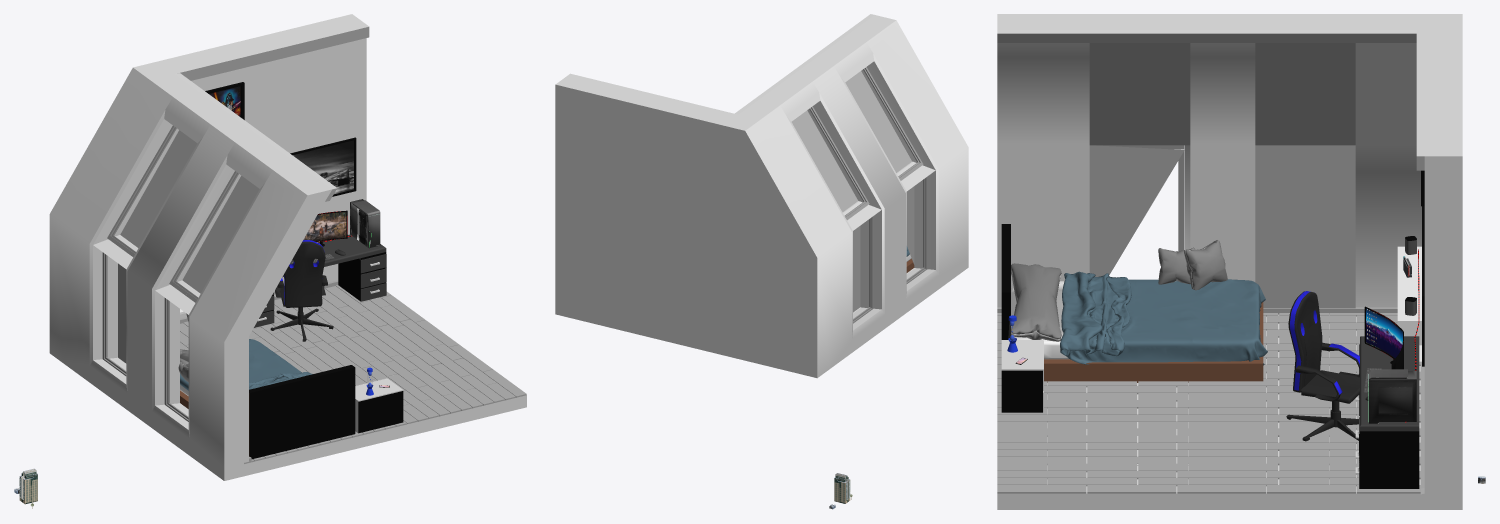
Rendered from interiores.glb.
3 views of the same model, side by side, from view 1: azimuth 30°, elevation 25°; view 2: azimuth 150°, elevation 25°; view 3: azimuth 270°, elevation 25° (orthographic). The views are drawn at different scales.
Visible parts, largest first — view 1: cuarto, cuarto.001, cuarto.002, cama, escritorio, silla, cuadro, Cube.001, Plane, torre, pantalla1.001, Cube.007 (+4 smaller); view 2: cuarto, Cube.007, Cube.006, Cube.005, Cube; view 3: cuarto, cuarto.001, cuarto.002, Plane, escritorio, cama, silla, almohada.001, Cube.001, torre, estante, almohada (+4 smaller).
Boxes of the visible parts, x1=… form: cuarto: x1=49, y1=14, x2=526, y2=480; cuarto.001: x1=180, y1=285, x2=526, y2=461; cuarto.002: x1=180, y1=286, x2=515, y2=463; cama: x1=180, y1=365, x2=355, y2=459; escritorio: x1=254, y1=234, x2=386, y2=327; silla: x1=270, y1=240, x2=333, y2=341; cuadro: x1=290, y1=137, x2=356, y2=196; Cube.001: x1=355, y1=378, x2=403, y2=433; Plane: x1=180, y1=339, x2=312, y2=390; torre: x1=350, y1=199, x2=380, y2=248; pantalla1.001: x1=303, y1=210, x2=347, y2=246; Cube.007: x1=169, y1=171, x2=238, y2=302; cuarto: x1=555, y1=14, x2=968, y2=378; Cube.007: x1=863, y1=67, x2=923, y2=180; Cube.006: x1=809, y1=106, x2=869, y2=220; Cube.005: x1=906, y1=177, x2=927, y2=283; Cube: x1=853, y1=216, x2=873, y2=323; cuarto: x1=997, y1=14, x2=1462, y2=509; cuarto.001: x1=997, y1=315, x2=1420, y2=493; cuarto.002: x1=997, y1=313, x2=1397, y2=486; Plane: x1=1060, y1=271, x2=1267, y2=365; escritorio: x1=1355, y1=336, x2=1419, y2=488; cama: x1=1001, y1=224, x2=1263, y2=382; silla: x1=1286, y1=291, x2=1359, y2=441; almohada.001: x1=1011, y1=263, x2=1061, y2=341; Cube.001: x1=1001, y1=340, x2=1043, y2=412; torre: x1=1368, y1=369, x2=1416, y2=423; estante: x1=1397, y1=246, x2=1421, y2=345; almohada: x1=1184, y1=240, x2=1227, y2=290.
Bounding box in the file's own units: 1012 × 1172 × 957.
92 materials, 49 textured.
